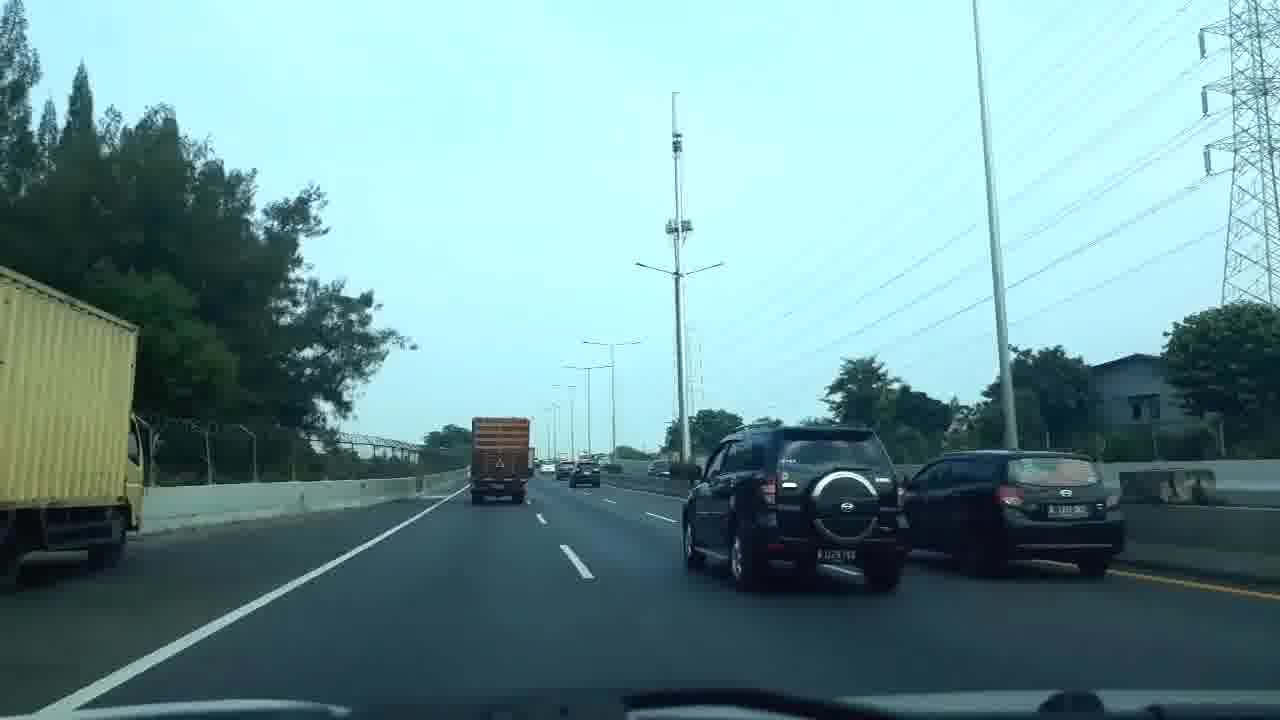plate_positive: (815, 548, 857, 564), (1047, 503, 1089, 519)
